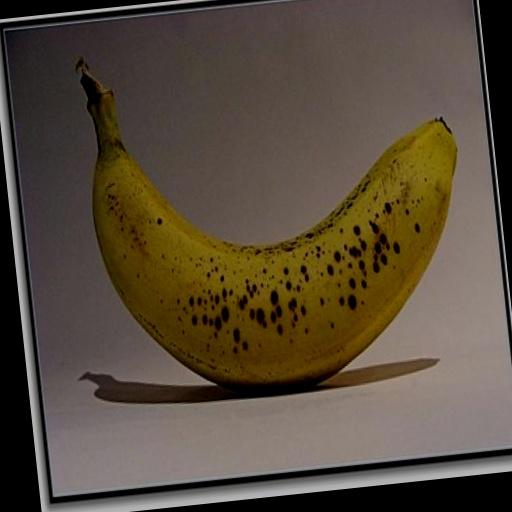fruit: (77, 59, 456, 391)
